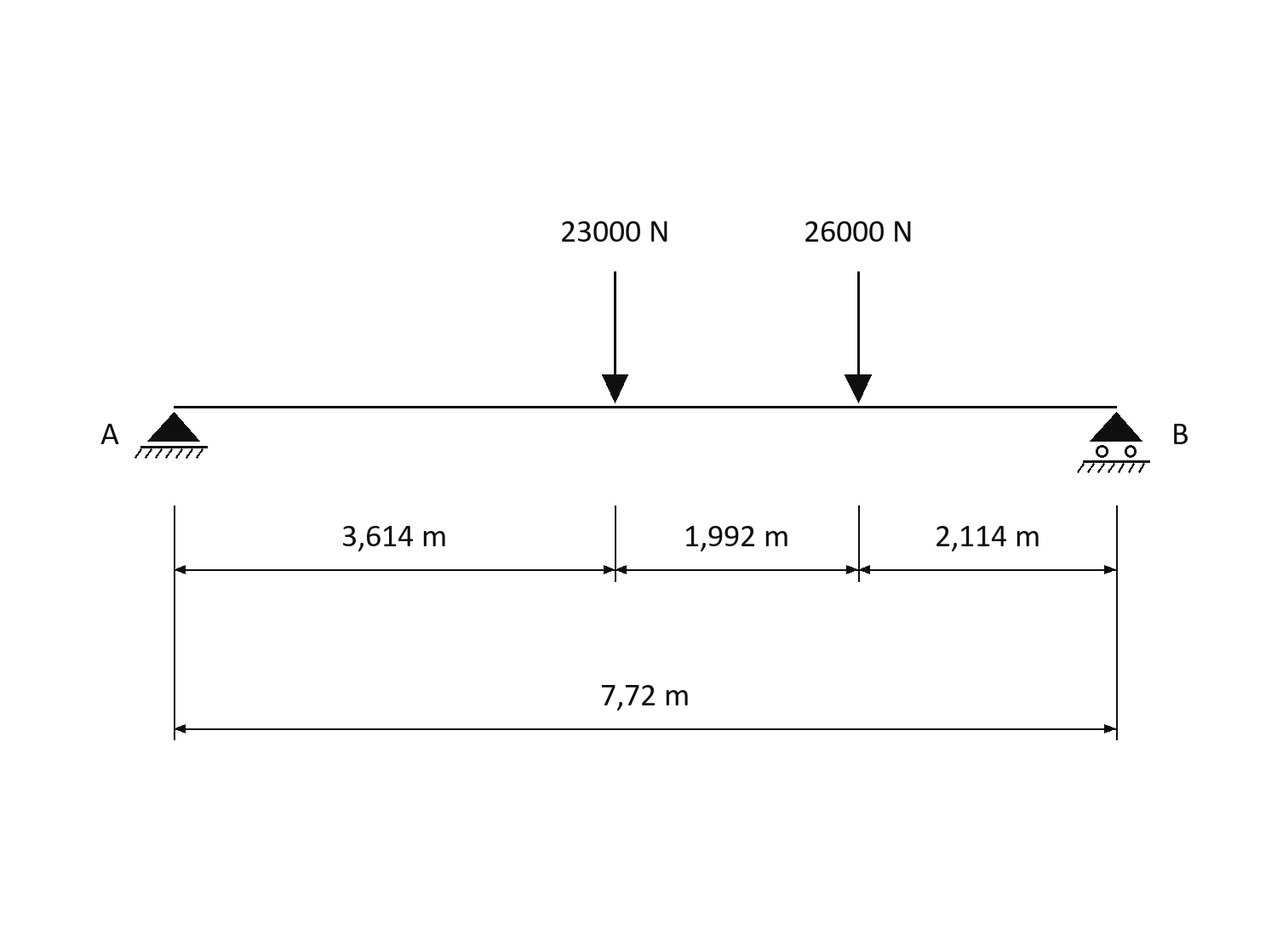pin_support: (135, 412, 208, 459)
point_load: (845, 271, 872, 403), (602, 271, 628, 403)
roller_support: (1077, 412, 1150, 473)
